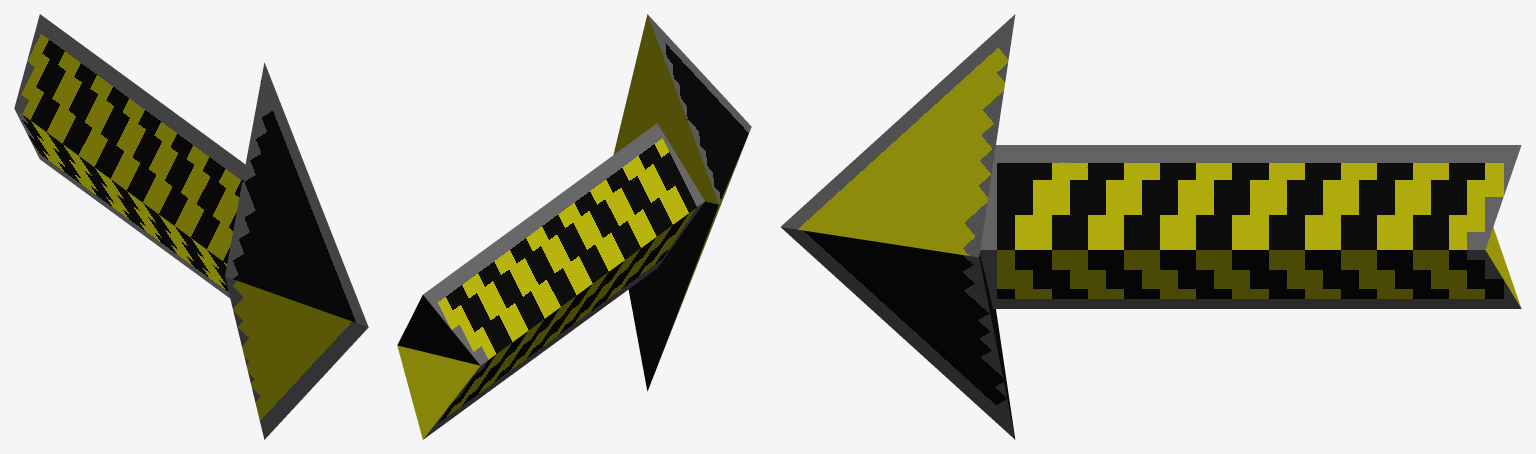
Rendered from ArrowSign.fbx.
The picture shows the model from 3 angles, left to right: view 1: azimuth 30°, elevation 25°; view 2: azimuth 150°, elevation 25°; view 3: azimuth 270°, elevation 25°; orthographic projection. The views are drawn at different scales.
Visible parts, largest first — view 1: cuboid, cuboid_1; view 2: cuboid, cuboid_1; view 3: cuboid, cuboid_1.
Boxes of the visible parts, box(x1,y1,x2,y2) form: cuboid: box(14, 14, 245, 298); cuboid_1: box(225, 62, 368, 439); cuboid: box(397, 123, 704, 439); cuboid_1: box(613, 14, 751, 391); cuboid: box(980, 145, 1521, 308); cuboid_1: box(781, 14, 1015, 439).
Size of the model in its own units: 50 by 162 by 256.
1 material, 1 textured.
